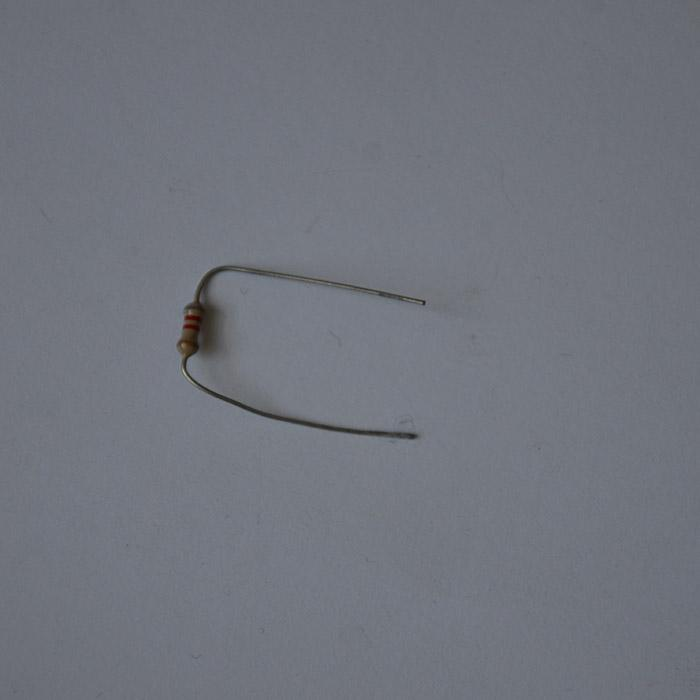resistor: (177, 301, 203, 356)
